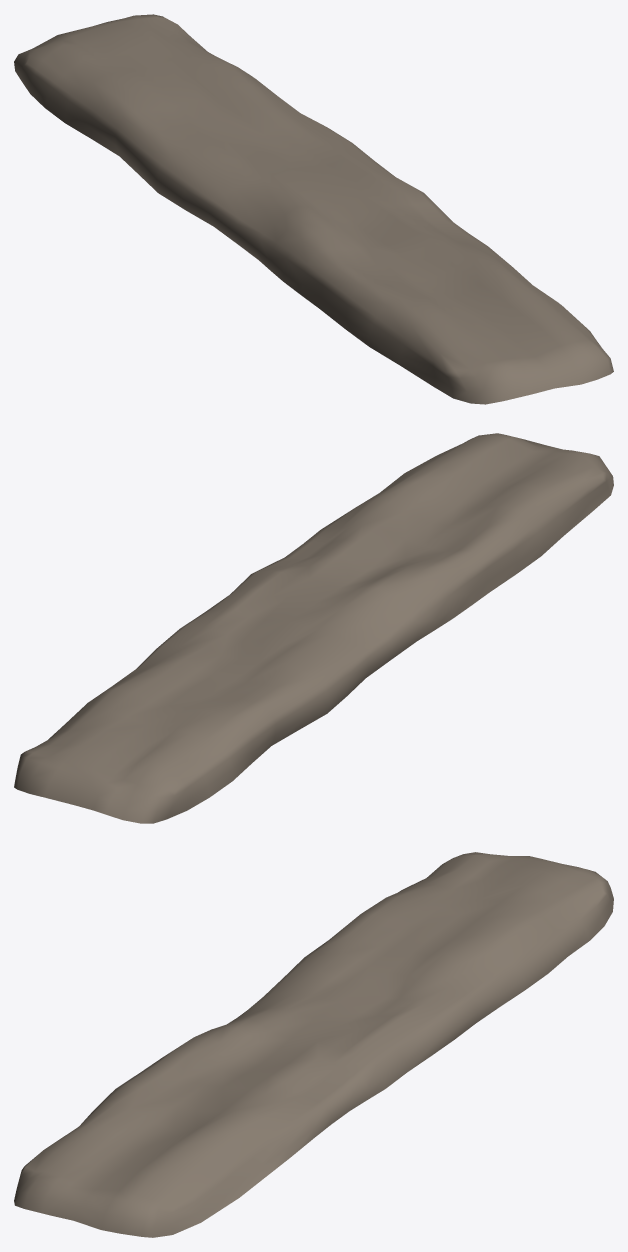
Rendered from Horta.fbx.
3 renders of one model, top to bottom at view 1: azimuth 30°, elevation 25°; view 2: azimuth 150°, elevation 25°; view 3: azimuth 330°, elevation 25°, orthographic.
Visible parts, largest first — view 1: Horta; view 2: Horta; view 3: Horta.
Boxes of the visible parts, x1,y1,x2,y2 form: Horta: (14,14,613,404); Horta: (14,433,613,823); Horta: (14,852,613,1237).
Bounding box in the file's own units: 90.52 × 22.31 × 415.
